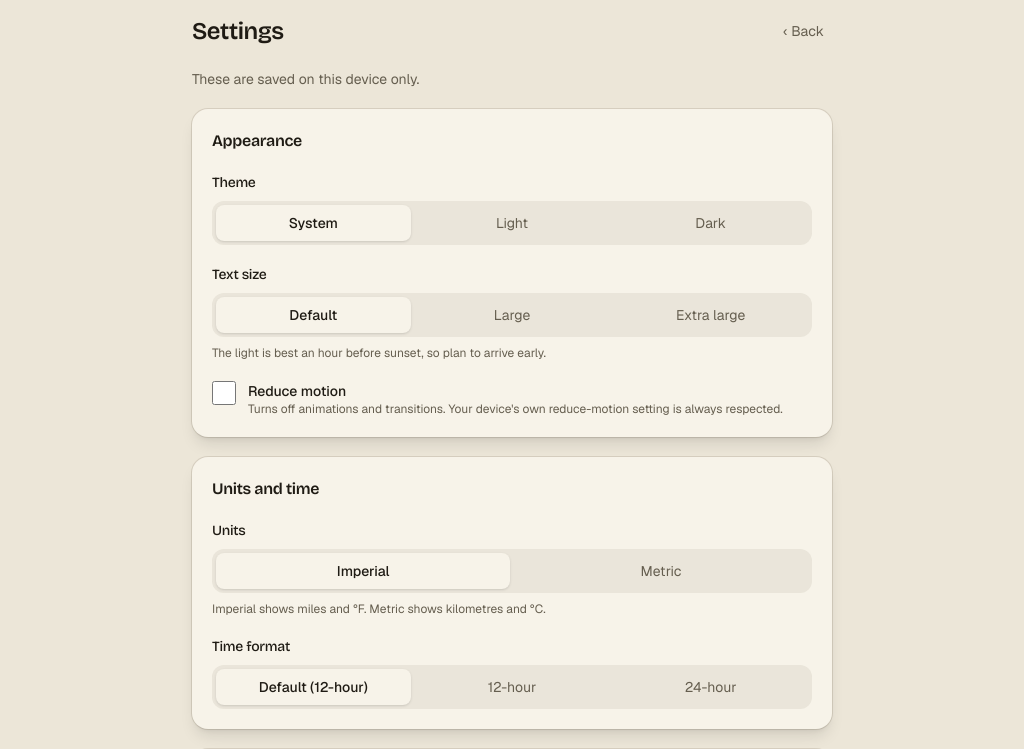
Test: SettingsView › reset restores the defaults
The image size is (1024, 749).
Click the radio button labelled "Dark": (711, 223) [695,214,726,232]
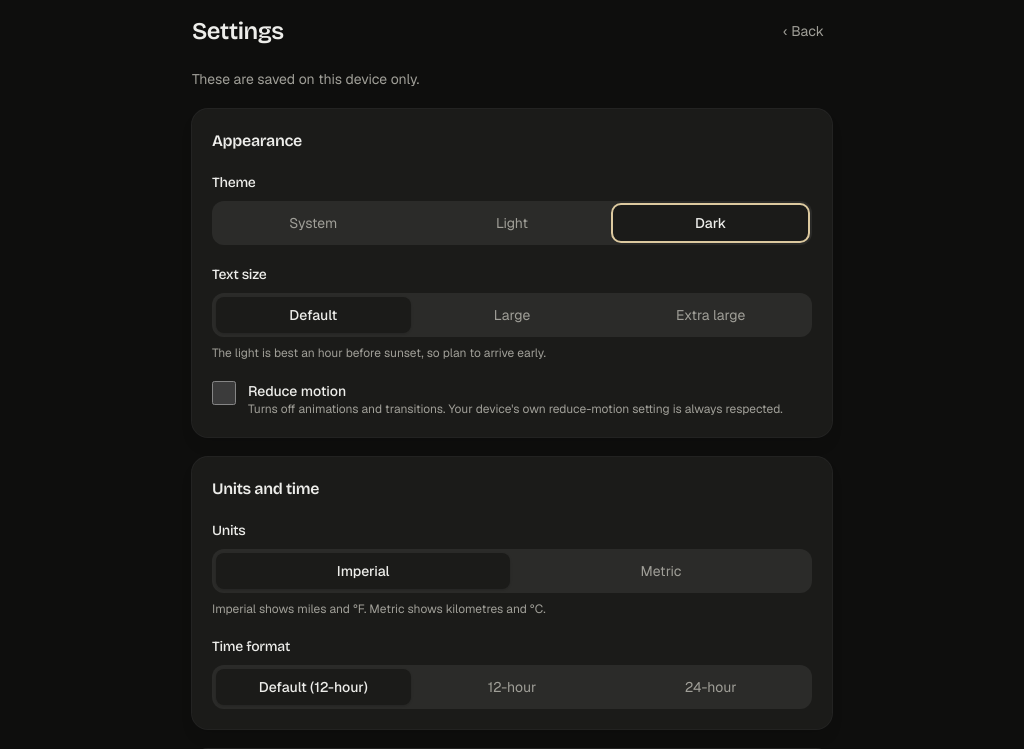
Click the radio button labelled "Extra large": (711, 315) [676,306,745,324]
(page scrolled)
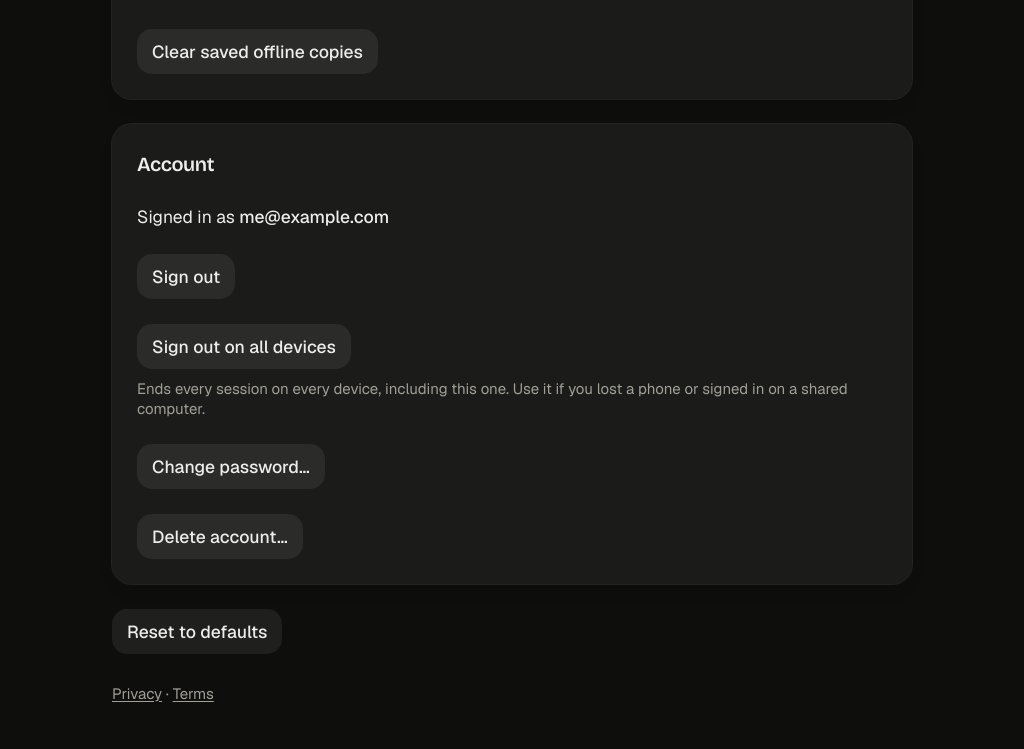
Click the button "Reset to defaults": (197, 631) [112,609,282,654]
(page scrolled)
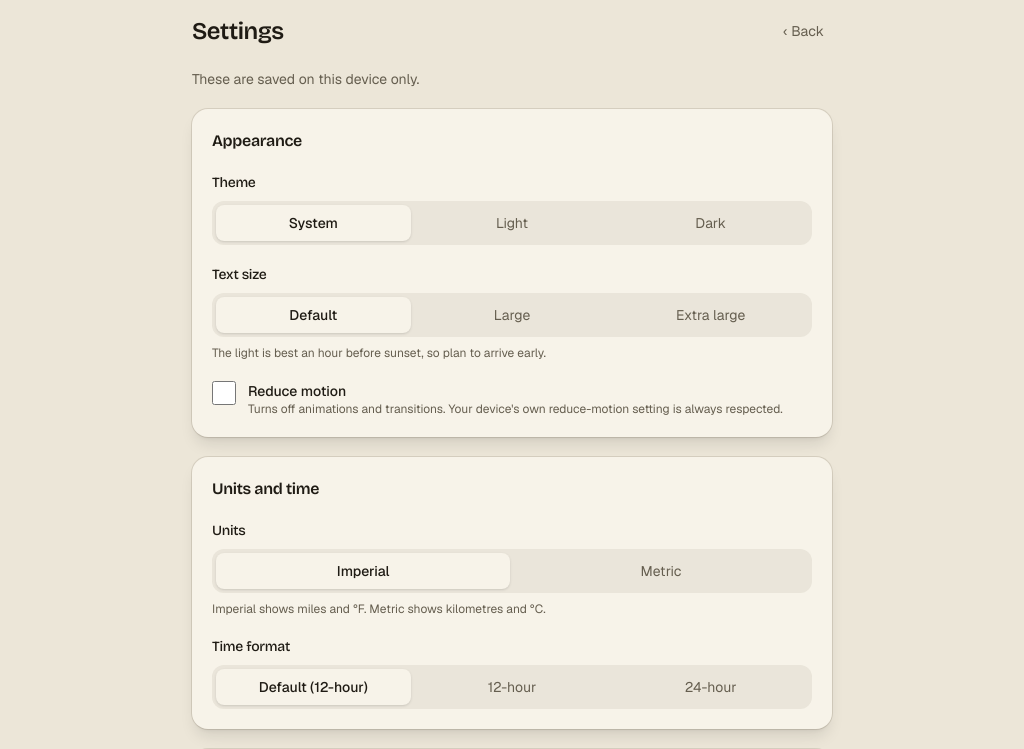
Expected: the radio button labelled "Default" is shown, [216,297,411,333]
Expected: the radio button labelled "System" is checked, [216,205,411,241]
